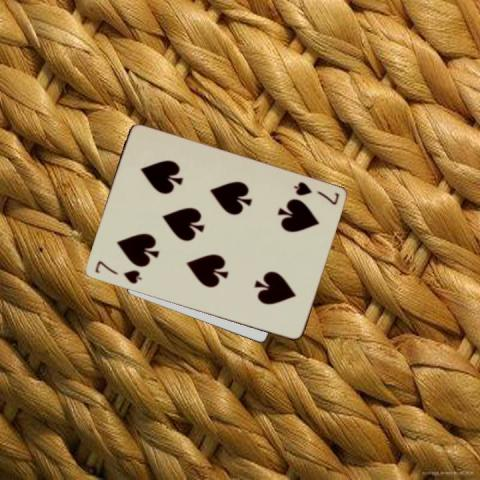7s: (92, 258, 144, 286), (290, 178, 340, 206)
